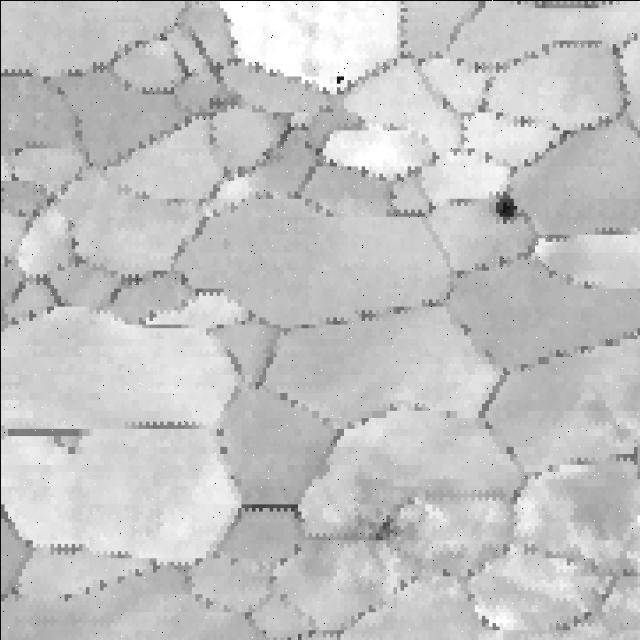good_void: (356, 488, 420, 561), (484, 188, 524, 244), (49, 434, 81, 459), (201, 127, 223, 148), (327, 71, 349, 86)
